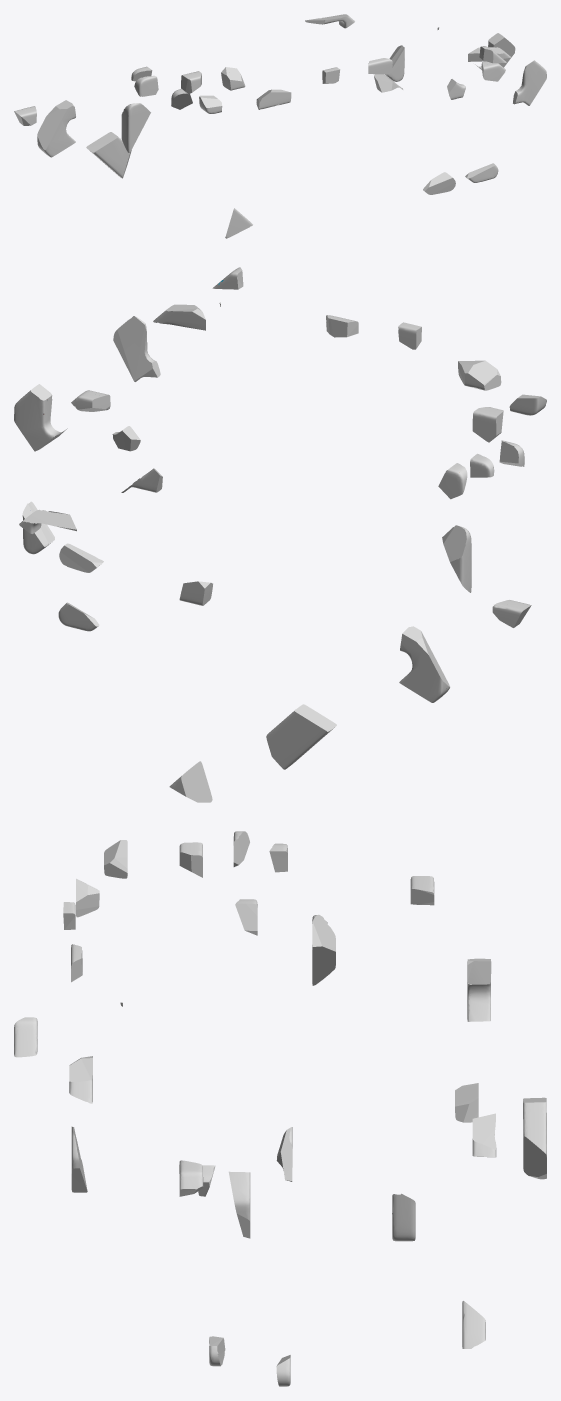
File: Exploding S.glb
The picture shows the model from 3 angles, top to bottom: view 1: azimuth 30°, elevation 25°; view 2: azimuth 150°, elevation 25°; view 3: azimuth 270°, elevation 25°; orthographic projection. The views are drawn at different scales.
Visible parts, largest first — view 1: S Base_cell.051, S Base_cell.038, S Base_cell.046, S Base_cell.050, S Base_cell.032, S Base_cell.031, S Base_cell.048, S Base_cell.027, S Base_cell.041, S Base_cell.045, S Base_cell.043, S Base_cell.029 (+11 smaller); view 2: S Base_cell.038, S Base_cell.051, S Base_cell.045, S Base_cell.050, S Base_cell.046, S Base_cell.032, S Base_cell.043, S Base_cell.049, S Base_cell.035, S Base_cell.036, S Base_cell.029, S Base_cell.048 (+5 smaller); view 3: S Base_cell.038, S Base_cell.051, S Base_cell.046, S Base_cell.048, S Base_cell.045, S Base_cell.036, S Base_cell.049, S Base_cell.039, S Base_cell.043, S Base_cell.027, S Base_cell.040, S Base_cell.042 (+4 smaller).
Part boxes in pixels (x1=…): S Base_cell.051: x1=37, y1=100, x2=75, y2=157; S Base_cell.038: x1=86, y1=132, x2=131, y2=178; S Base_cell.046: x1=121, y1=103, x2=150, y2=152; S Base_cell.050: x1=513, y1=60, x2=546, y2=105; S Base_cell.032: x1=256, y1=89, x2=291, y2=109; S Base_cell.031: x1=423, y1=172, x2=455, y2=194; S Base_cell.048: x1=384, y1=45, x2=404, y2=81; S Base_cell.027: x1=221, y1=67, x2=245, y2=90; S Base_cell.041: x1=134, y1=75, x2=158, y2=96; S Base_cell.045: x1=475, y1=33, x2=515, y2=69; S Base_cell.043: x1=225, y1=208, x2=252, y2=238; S Base_cell.029: x1=465, y1=163, x2=498, y2=182; S Base_cell.038: x1=266, y1=704, x2=336, y2=769; S Base_cell.051: x1=399, y1=626, x2=449, y2=702; S Base_cell.045: x1=14, y1=384, x2=67, y2=451; S Base_cell.050: x1=113, y1=316, x2=160, y2=381; S Base_cell.046: x1=442, y1=525, x2=471, y2=592; S Base_cell.032: x1=458, y1=360, x2=501, y2=390; S Base_cell.043: x1=169, y1=761, x2=212, y2=802; S Base_cell.049: x1=153, y1=304, x2=205, y2=330; S Base_cell.035: x1=472, y1=407, x2=503, y2=442; S Base_cell.036: x1=19, y1=509, x2=76, y2=533; S Base_cell.029: x1=59, y1=543, x2=103, y2=572; S Base_cell.048: x1=22, y1=501, x2=54, y2=554; S Base_cell.038: x1=523, y1=1097, x2=546, y2=1179; S Base_cell.051: x1=467, y1=958, x2=491, y2=1021; S Base_cell.046: x1=312, y1=914, x2=335, y2=985; S Base_cell.048: x1=392, y1=1193, x2=415, y2=1241; S Base_cell.045: x1=228, y1=1171, x2=250, y2=1238; S Base_cell.036: x1=472, y1=1113, x2=496, y2=1157; S Base_cell.049: x1=69, y1=1056, x2=92, y2=1103; S Base_cell.039: x1=14, y1=1017, x2=37, y2=1057; S Base_cell.043: x1=462, y1=1301, x2=485, y2=1348; S Base_cell.027: x1=455, y1=1083, x2=478, y2=1122; S Base_cell.040: x1=104, y1=840, x2=127, y2=878; S Base_cell.042: x1=179, y1=1160, x2=203, y2=1196.
Size of the model in its own units: 2.84 by 1.66 by 1.92.
Materials: 23 (22 with a texture image).
